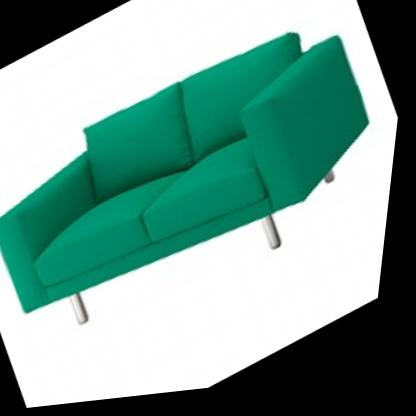Sofa: (0, 0, 415, 393)
